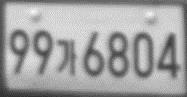0: (132, 32, 155, 78)
4: (155, 33, 181, 79)
6: (83, 31, 104, 78)
8: (106, 31, 129, 78)
9: (31, 29, 53, 75), (9, 29, 30, 76)
가: (56, 39, 78, 78)
